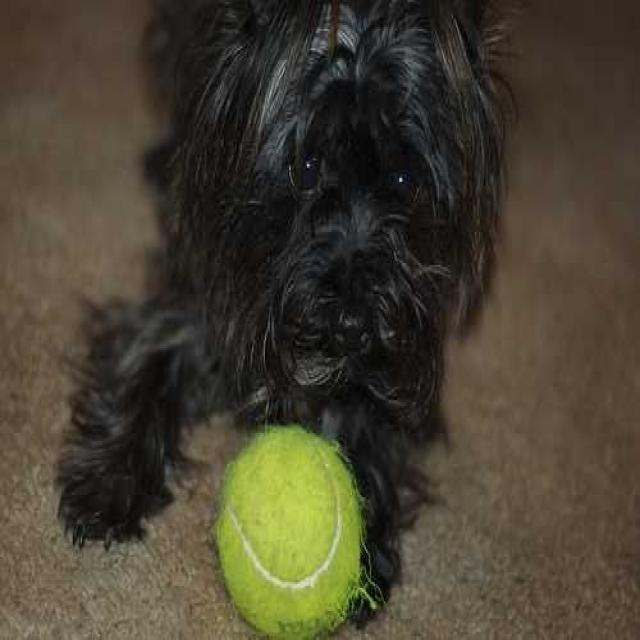Tennis_Ball: (220, 434, 364, 619)
